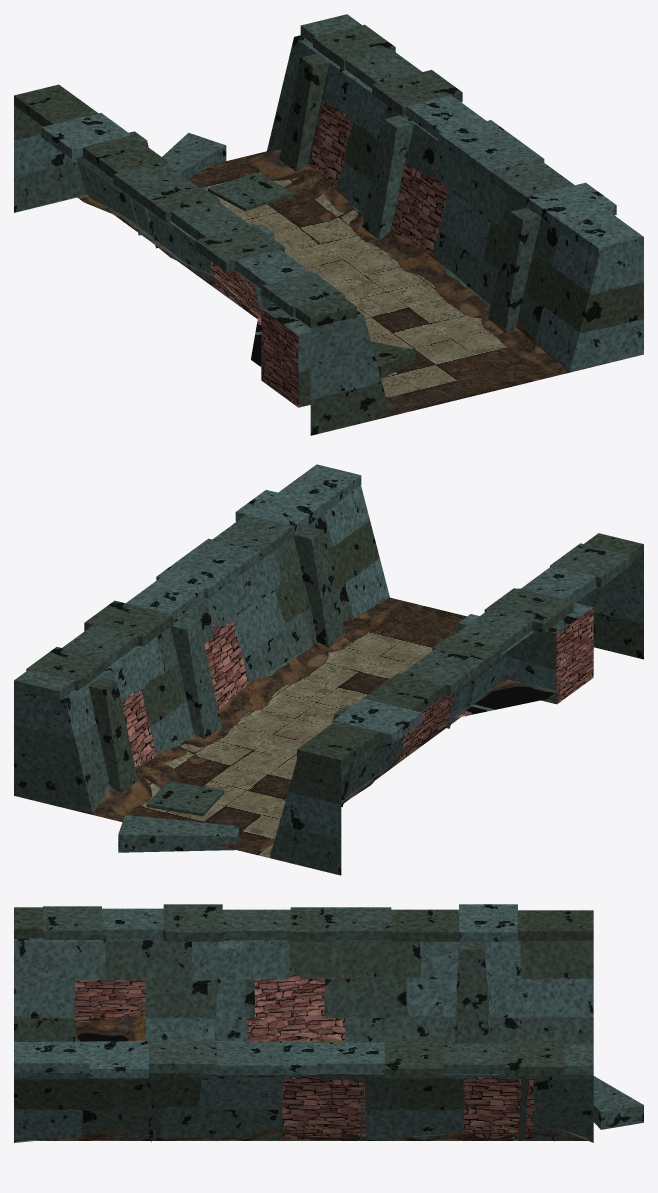
Rendered from corridor.fbx.
The picture shows the model from 3 angles, top to bottom: view 1: azimuth 30°, elevation 25°; view 2: azimuth 150°, elevation 25°; view 3: azimuth 270°, elevation 25°; orthographic projection. The views are drawn at different scales.
Parts seen in each view (by area): view 1: corridor LP; view 2: corridor LP; view 3: corridor LP.
Boxes of the visible parts, x1,y1,x2,y2 form: corridor LP: (14,14,643,435); corridor LP: (14,464,643,875); corridor LP: (14,904,643,1142).
Bounding box in the file's own units: 940 × 316 × 1522.
